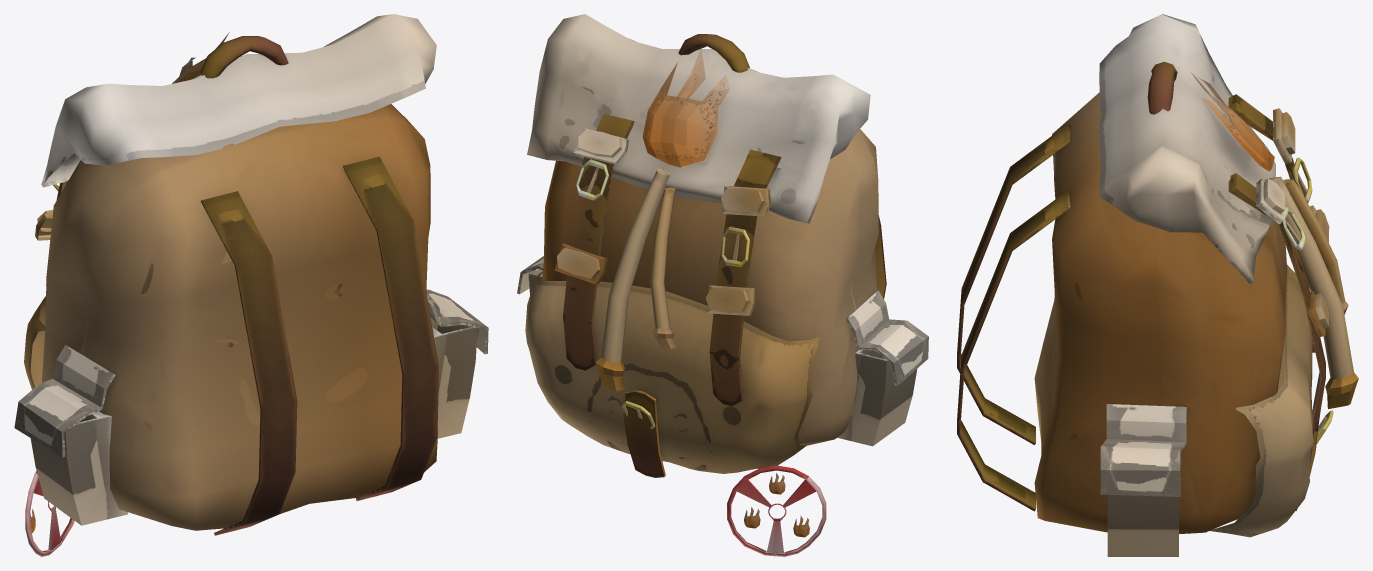
Rendered from Mochila_Sketchfab.fbx.
3 views of the same model, side by side, from view 1: azimuth 30°, elevation 25°; view 2: azimuth 150°, elevation 25°; view 3: azimuth 270°, elevation 25° (orthographic). The views are drawn at different scales.
Parts seen in each view (by area): view 1: Bolsa_Mochila; view 2: Bolsa_Mochila; view 3: Bolsa_Mochila.
Boxes of the visible parts, x1=… form: Bolsa_Mochila: x1=14, y1=14, x2=488, y2=556; Bolsa_Mochila: x1=517, y1=14, x2=928, y2=556; Bolsa_Mochila: x1=957, y1=14, x2=1358, y2=556.
Bounding box in the file's own units: 55.99 × 64.13 × 46.48.
